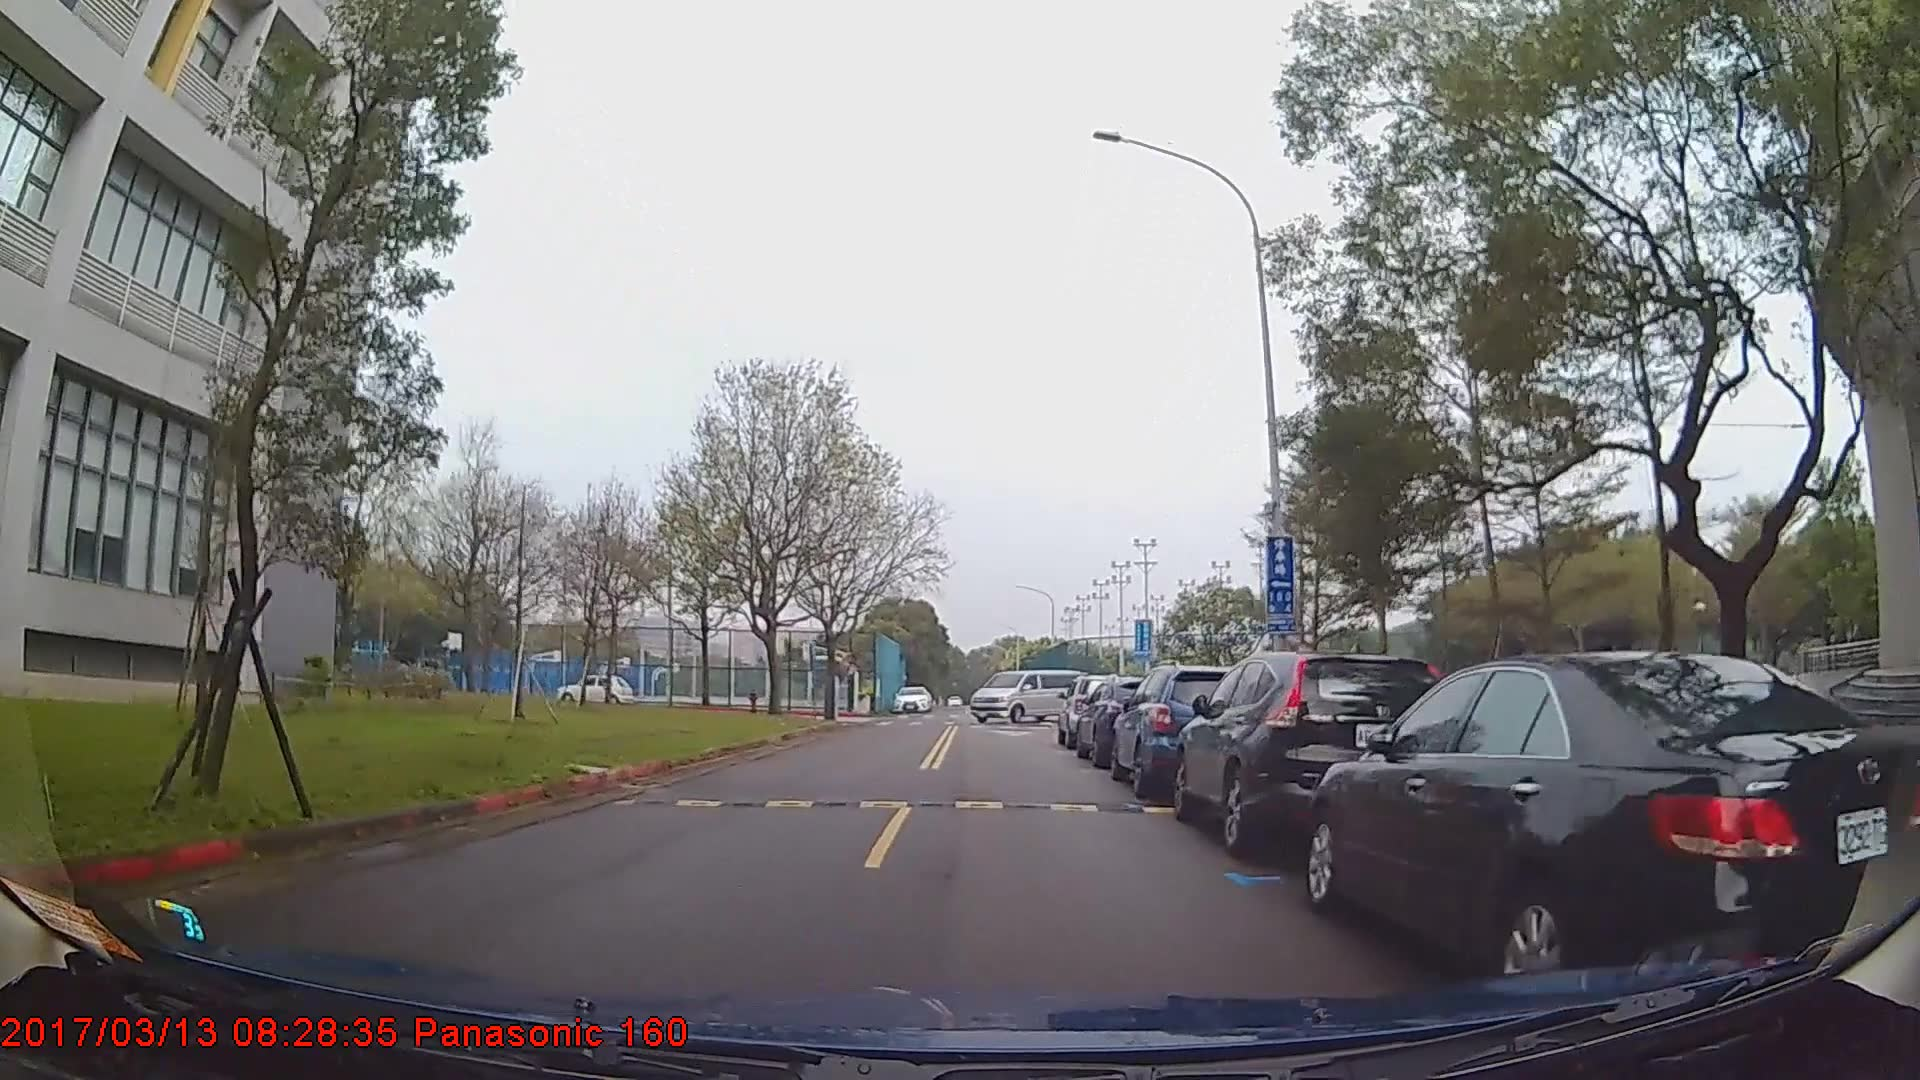vehicle: (1299, 649, 1915, 1007), (1171, 646, 1452, 857), (1108, 662, 1251, 796), (971, 667, 1083, 721), (554, 670, 634, 705), (891, 683, 934, 712)
